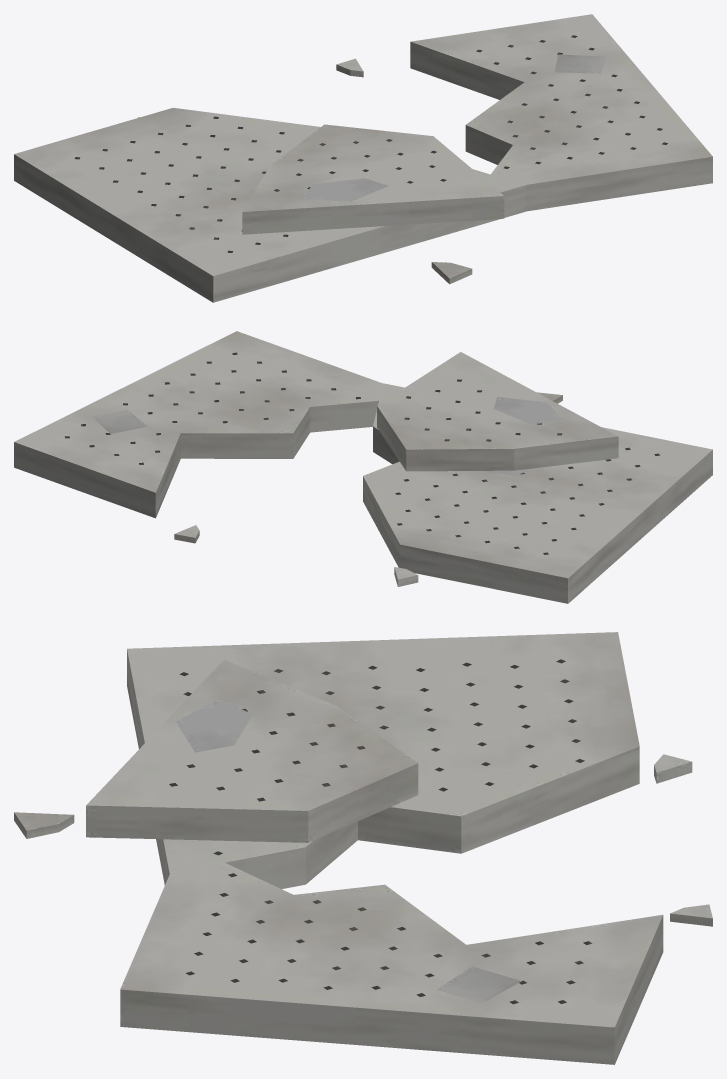
File: D35_fallen_ceiling_tiles_v3.glb
3 renders of one model, top to bottom at view 1: azimuth 30°, elevation 25°; view 2: azimuth 150°, elevation 25°; view 3: azimuth 270°, elevation 25°, orthographic. The views are drawn at different scales.
Visible parts, largest first — view 1: Large_mineral_fragment; view 2: Large_mineral_fragment; view 3: Large_mineral_fragment.
Part boxes in pixels (left/top/right/bottom): Large_mineral_fragment: left=14, top=14, right=712, bottom=302; Large_mineral_fragment: left=14, top=331, right=712, bottom=603; Large_mineral_fragment: left=14, top=632, right=712, bottom=1064.
Bounding box in the file's own units: 1 × 0.0833 × 0.7469.
Materials: 3 (3 with a texture image).
